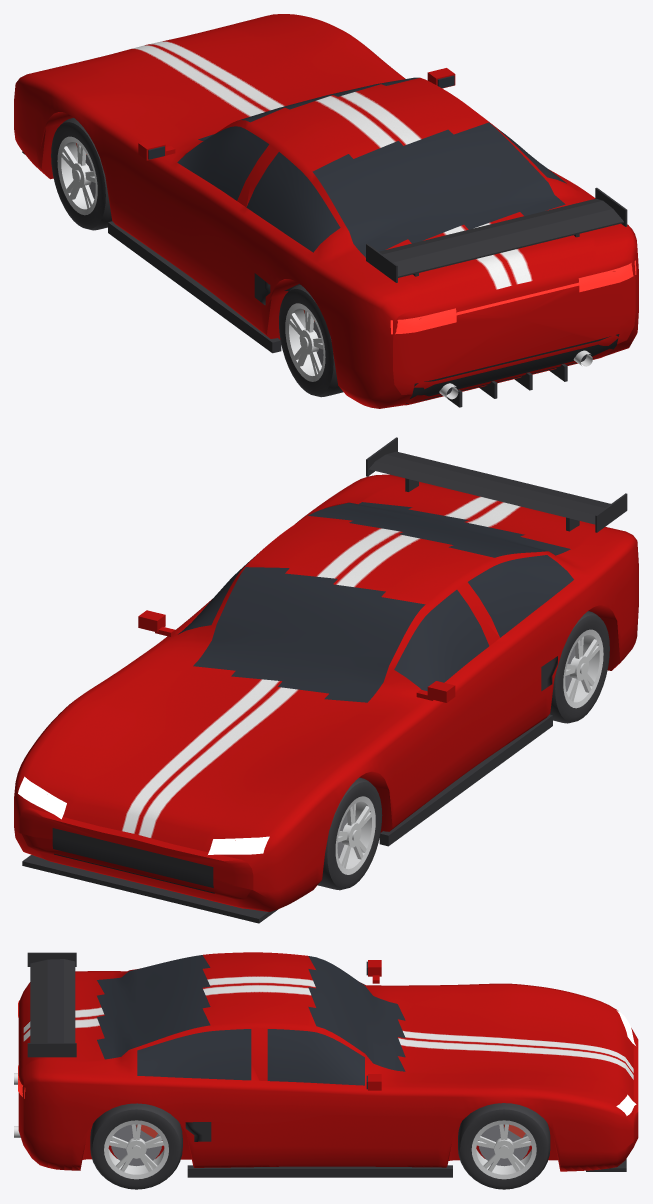
Rendered from car.glb.
3 renders of one model, top to bottom at view 1: azimuth 30°, elevation 25°; view 2: azimuth 150°, elevation 25°; view 3: azimuth 270°, elevation 25°, orthographic. The views are drawn at different scales.
Visible parts, largest first — view 1: body, wheel_FL, wheel_RL, brake_lights; view 2: body, wheel_FL, wheel_RL; view 3: body, wheel_FR, wheel_RR.
Part boxes in pixels (x1,y1,x2,y2): body: (14, 14, 638, 408); wheel_FL: (51, 118, 112, 230); wheel_RL: (279, 285, 343, 397); brake_lights: (390, 260, 636, 334); body: (14, 437, 638, 923); wheel_FL: (318, 777, 382, 890); wheel_RL: (549, 611, 609, 723); body: (14, 952, 638, 1177); wheel_FR: (458, 1103, 550, 1189); wheel_RR: (90, 1103, 182, 1189).
Size of what is drawn, in the model's own units: 2.11 by 1.24 by 4.59.
9 materials, 1 textured.
